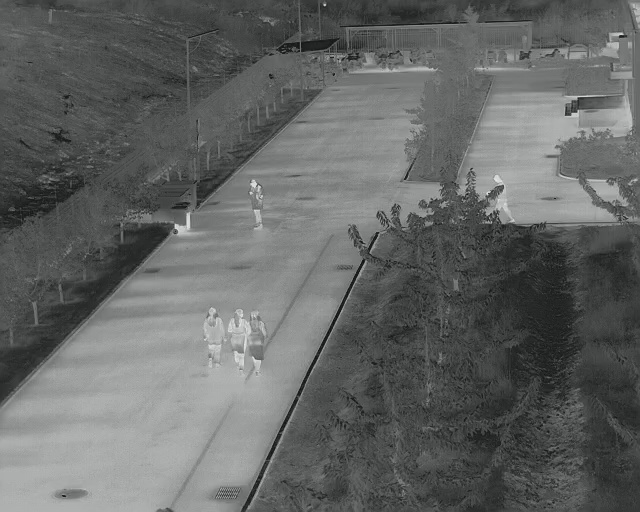person: (203, 306, 224, 365), (230, 308, 248, 372), (249, 310, 265, 375), (248, 178, 267, 232), (496, 176, 512, 217)
